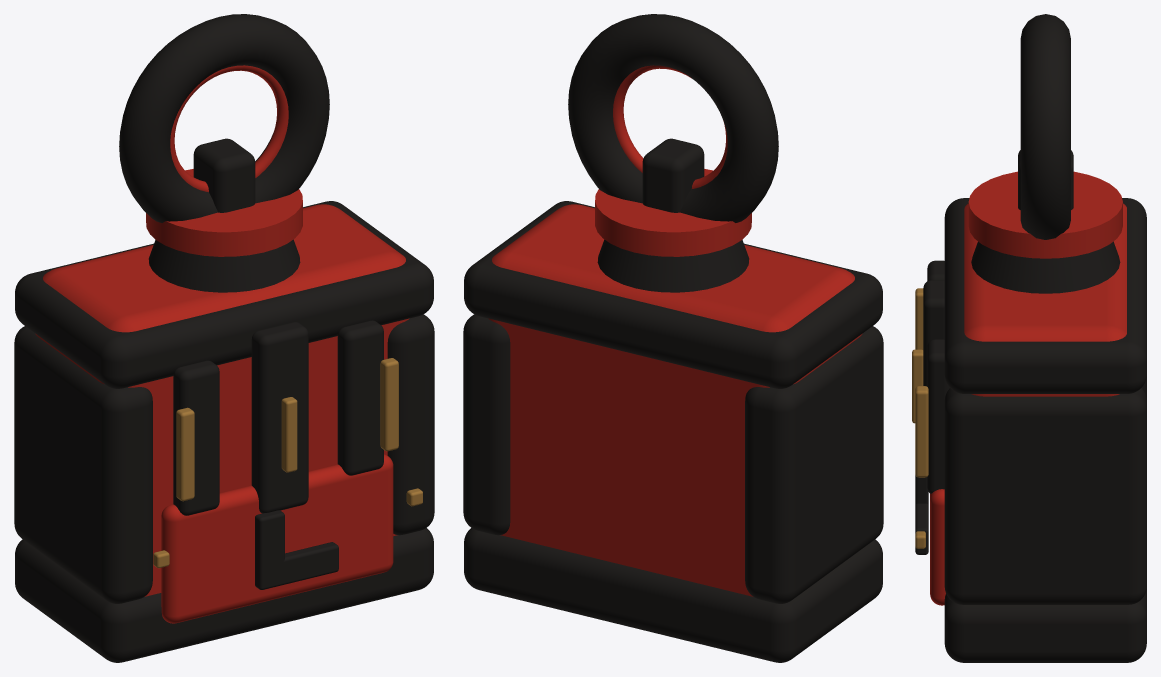
The model's file is living-seal.glb.
3 renders of one model, left to right at view 1: azimuth 30°, elevation 25°; view 2: azimuth 150°, elevation 25°; view 3: azimuth 270°, elevation 25°, orthographic.
Parts seen in each view (by area): view 1: seal_shell_left, seal_core, seal_shell_top, handle_ring, stamp_face, seal_shell_bottom, central_spine, seal_shell_right, upper_rib_right, neck_cinnabar_band, upper_rib_left, neck (+7 smaller); view 2: seal_core, seal_shell_left, seal_shell_bottom, seal_shell_top, handle_ring, seal_shell_right, neck_cinnabar_band, neck, handle_join, handle_inner_glow; view 3: seal_shell_right, seal_shell_top, seal_shell_bottom, handle_ring, seal_core, neck_cinnabar_band, neck, upper_rib_right, stamp_face, central_spine, circuit_bar_right, central_brass_key (+4 smaller).
Part boxes in pixels (x1,y1,x2,y2): seal_shell_left: (14,326,152,603); seal_core: (35,204,409,596); seal_shell_top: (15,201,433,388); handle_ring: (119,14,329,222); stamp_face: (161,454,393,623); seal_shell_bottom: (15,528,433,662); central_spine: (251,322,308,513); seal_shell_right: (387,314,434,535); upper_rib_right: (337,320,383,475); neck_cinnabar_band: (146,169,302,256); upper_rib_left: (173,360,219,515); neck: (148,239,300,292); seal_core: (488,204,862,596); seal_shell_left: (745,326,883,603); seal_shell_bottom: (464,528,882,662); seal_shell_top: (464,201,882,388); handle_ring: (568,14,778,222); seal_shell_right: (463,314,510,535); neck_cinnabar_band: (595,169,751,256); neck: (597,239,749,292); handle_join: (642,138,704,212); handle_inner_glow: (613,65,727,188); seal_shell_right: (944,388,1146,604); seal_shell_top: (944,198,1146,393); seal_shell_bottom: (944,587,1146,662); handle_ring: (1020,14,1070,239); seal_core: (964,203,1126,396); neck_cinnabar_band: (968,171,1122,258); neck: (971,241,1120,293); upper_rib_right: (927,339,949,493); stamp_face: (930,489,945,605); central_spine: (923,280,944,386); circuit_bar_right: (915,386,928,477); central_brass_key: (912,349,923,423).
Bounding box in the file's own units: 2.82 × 4.73 × 1.76.
